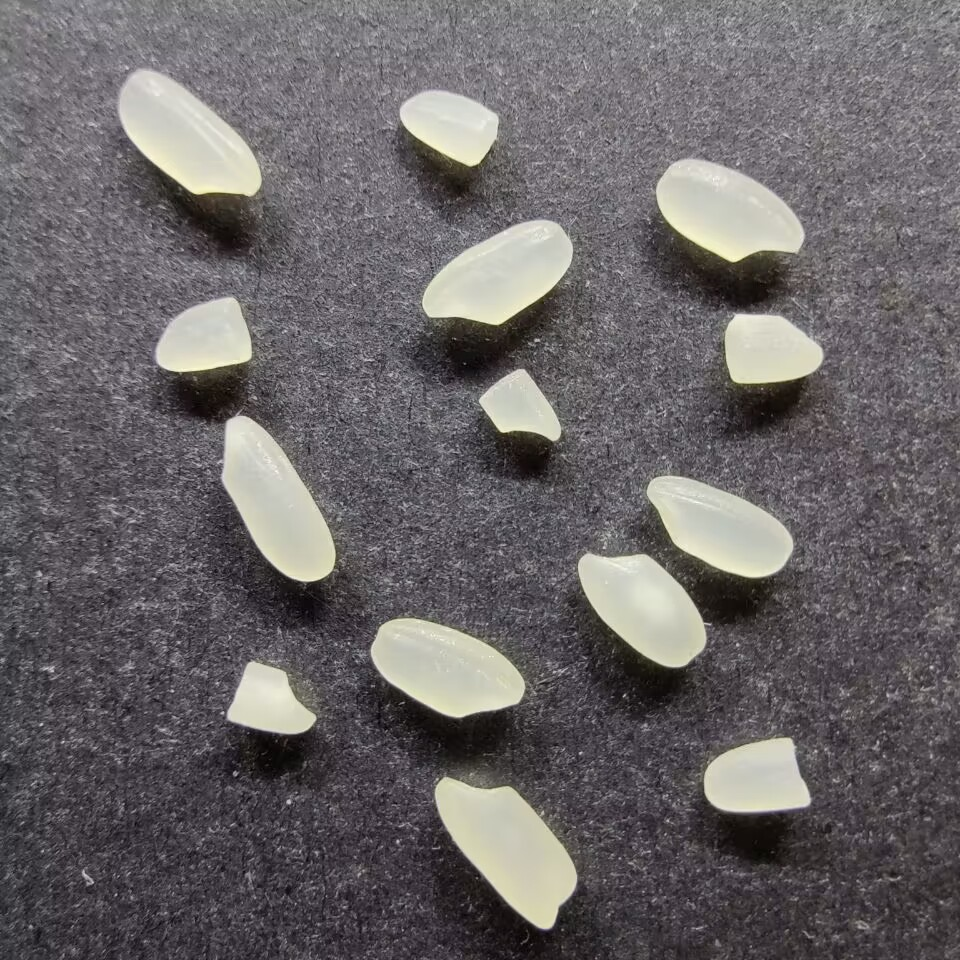broken: (701, 735, 812, 814), (396, 90, 501, 167), (152, 295, 253, 374), (721, 311, 825, 385), (222, 659, 320, 736), (476, 367, 563, 443)
rice: (431, 772, 580, 931), (218, 413, 336, 584), (115, 67, 265, 200), (420, 217, 575, 327), (653, 156, 806, 264), (368, 616, 527, 719), (575, 550, 709, 669), (644, 474, 793, 580)
